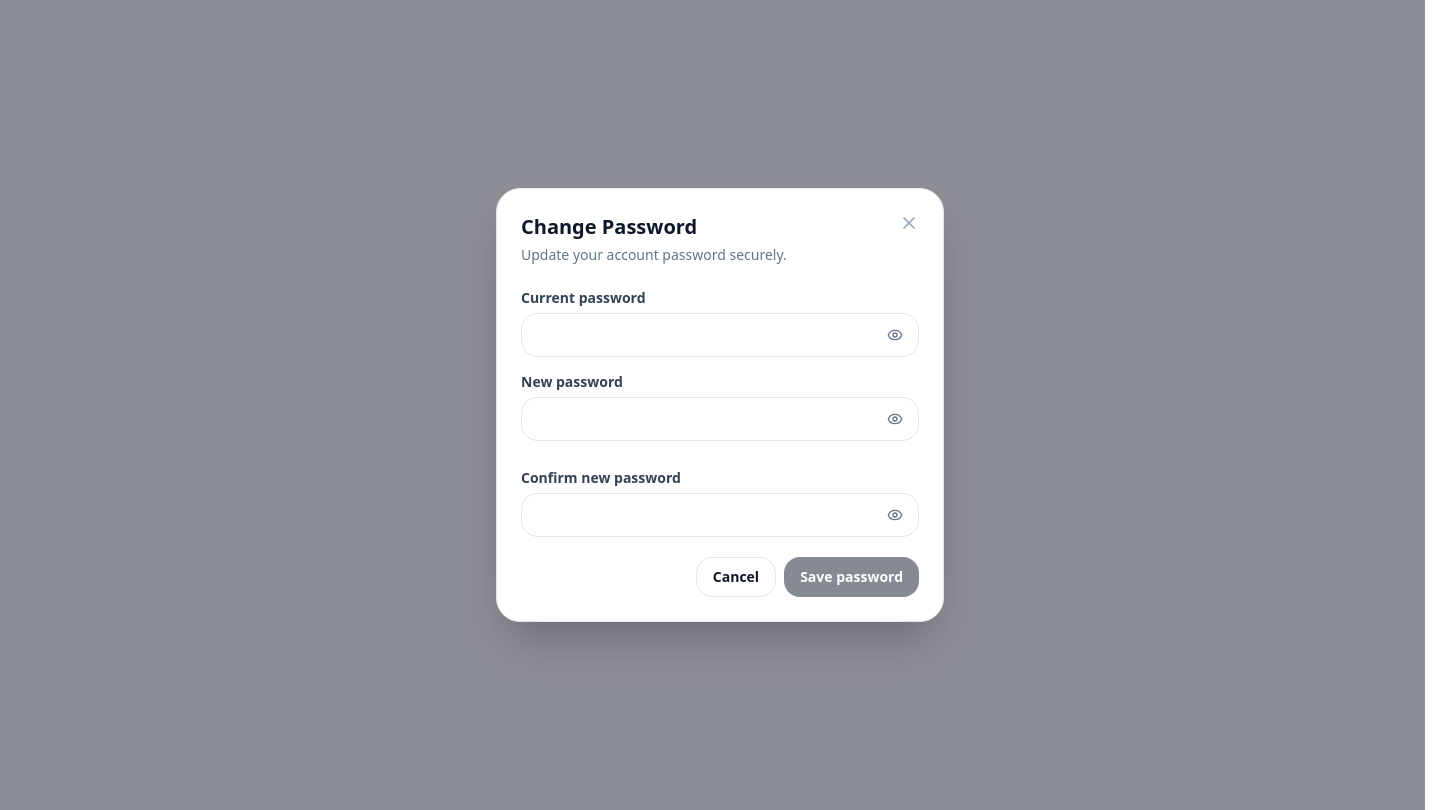
Test: ChangePasswordModal › shows field-level newPassword backend error instead of generic validation message
Type "Current passphrase 123!" into the password field labelled "Current password". click: point(720, 335)
box: left=521, top=313, right=919, bottom=357
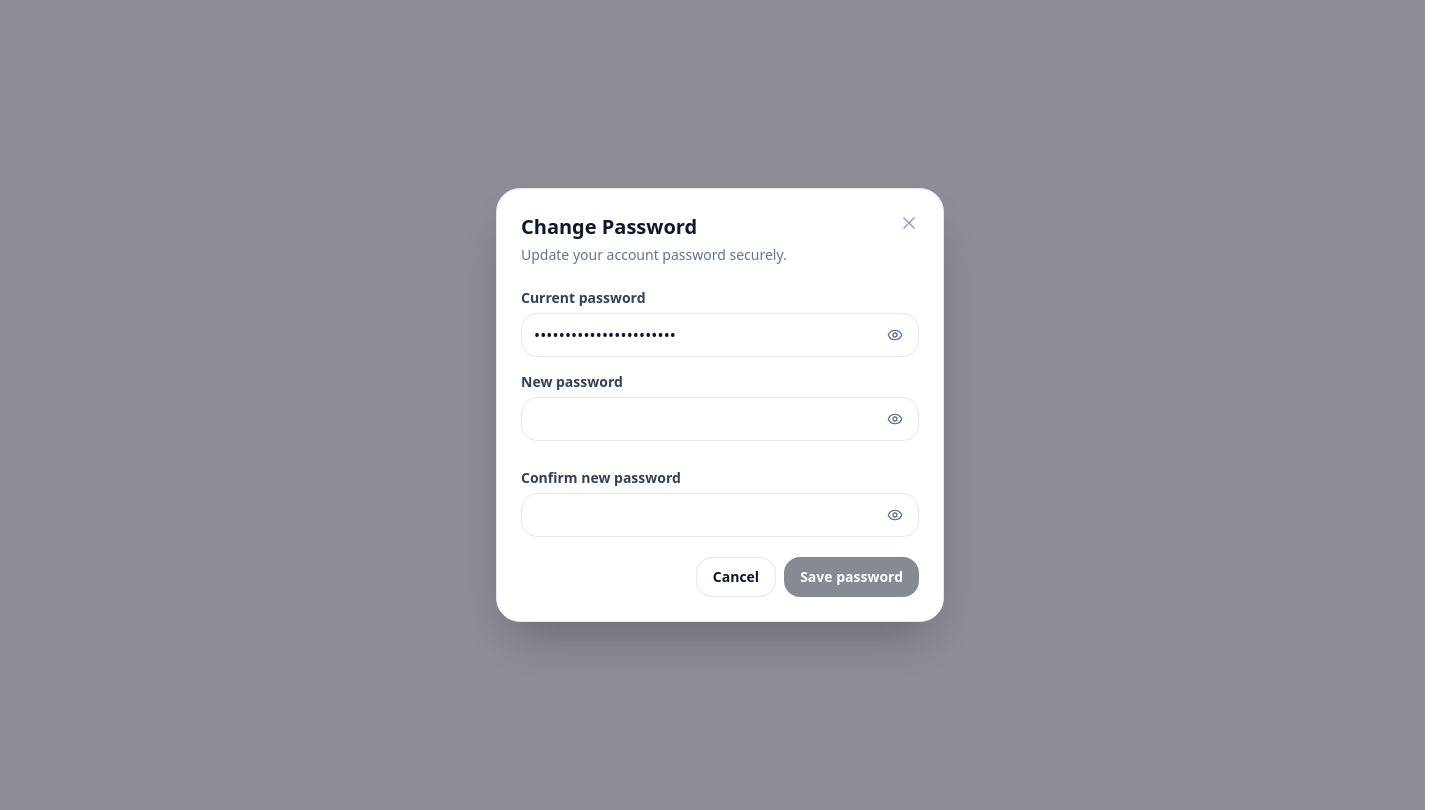
Type "A very strong new passphrase 123!" into the password field labelled "New password". click: point(720, 419)
box: left=521, top=397, right=919, bottom=441
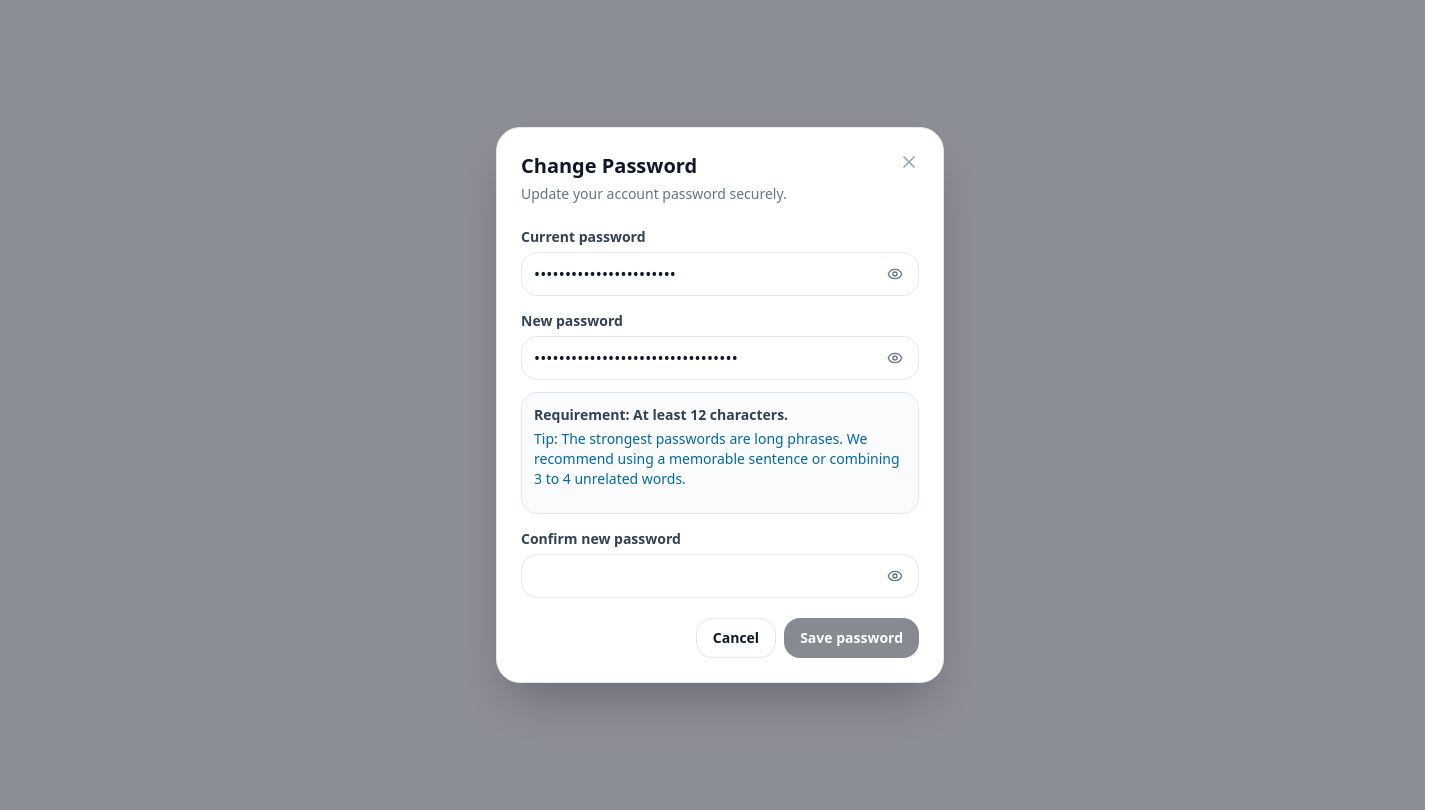
Type "A very strong new passphrase 123!" into the password field labelled "Confirm new password". click: point(720, 576)
box: left=521, top=554, right=919, bottom=598
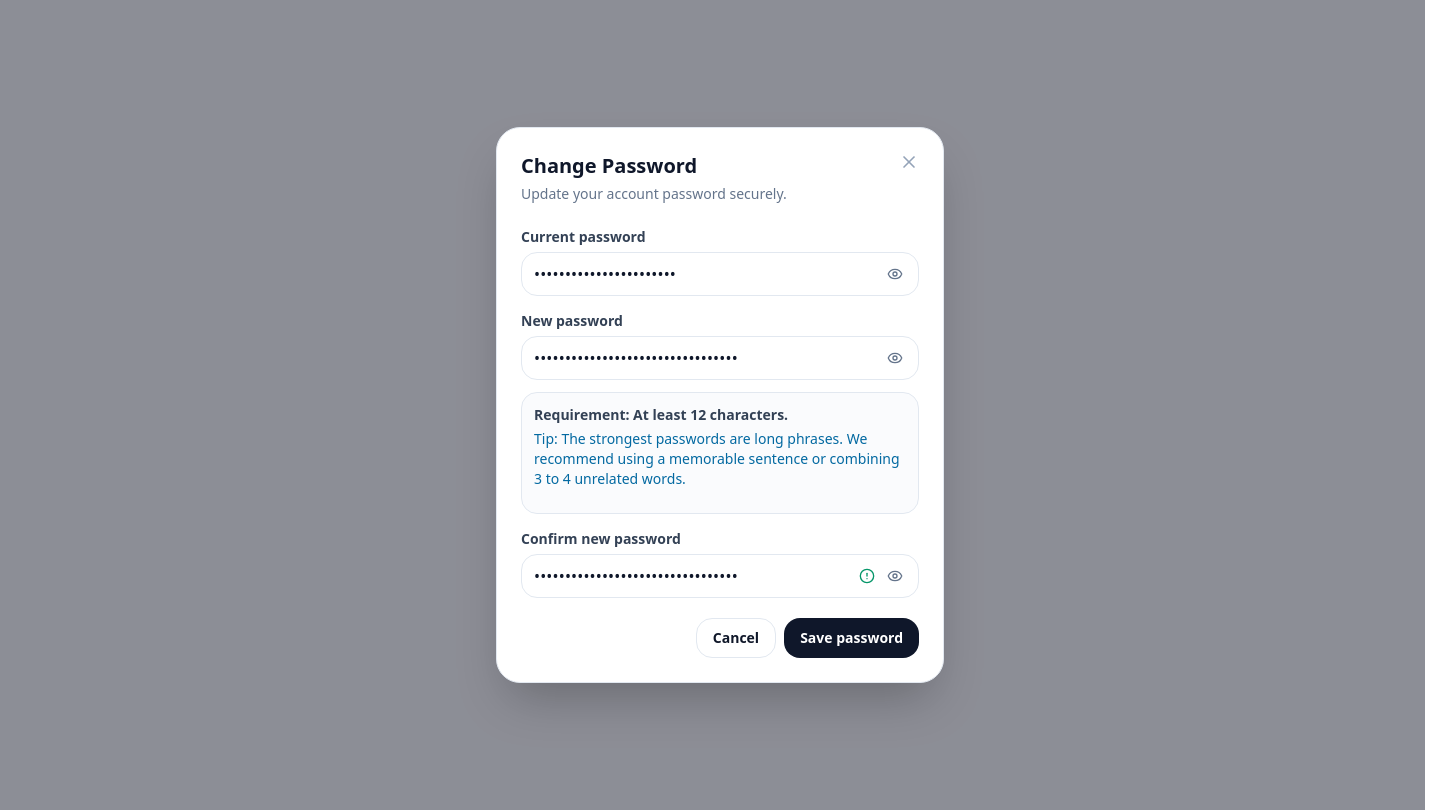
Click the button "Save password". click: point(852, 638)
box: left=784, top=618, right=919, bottom=658
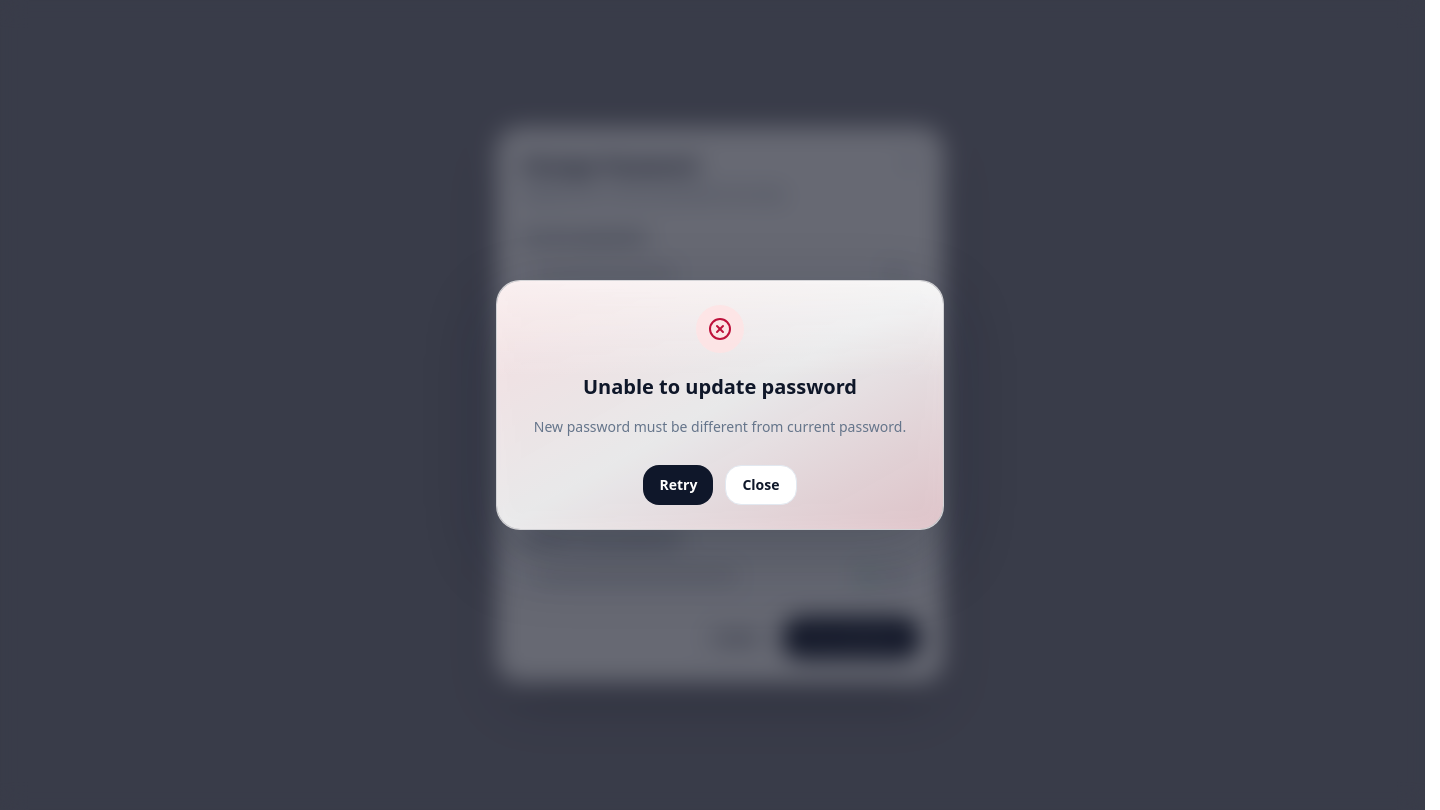
Expected: the text "New password must be different from current password." is shown, left=534, top=413, right=906, bottom=441
